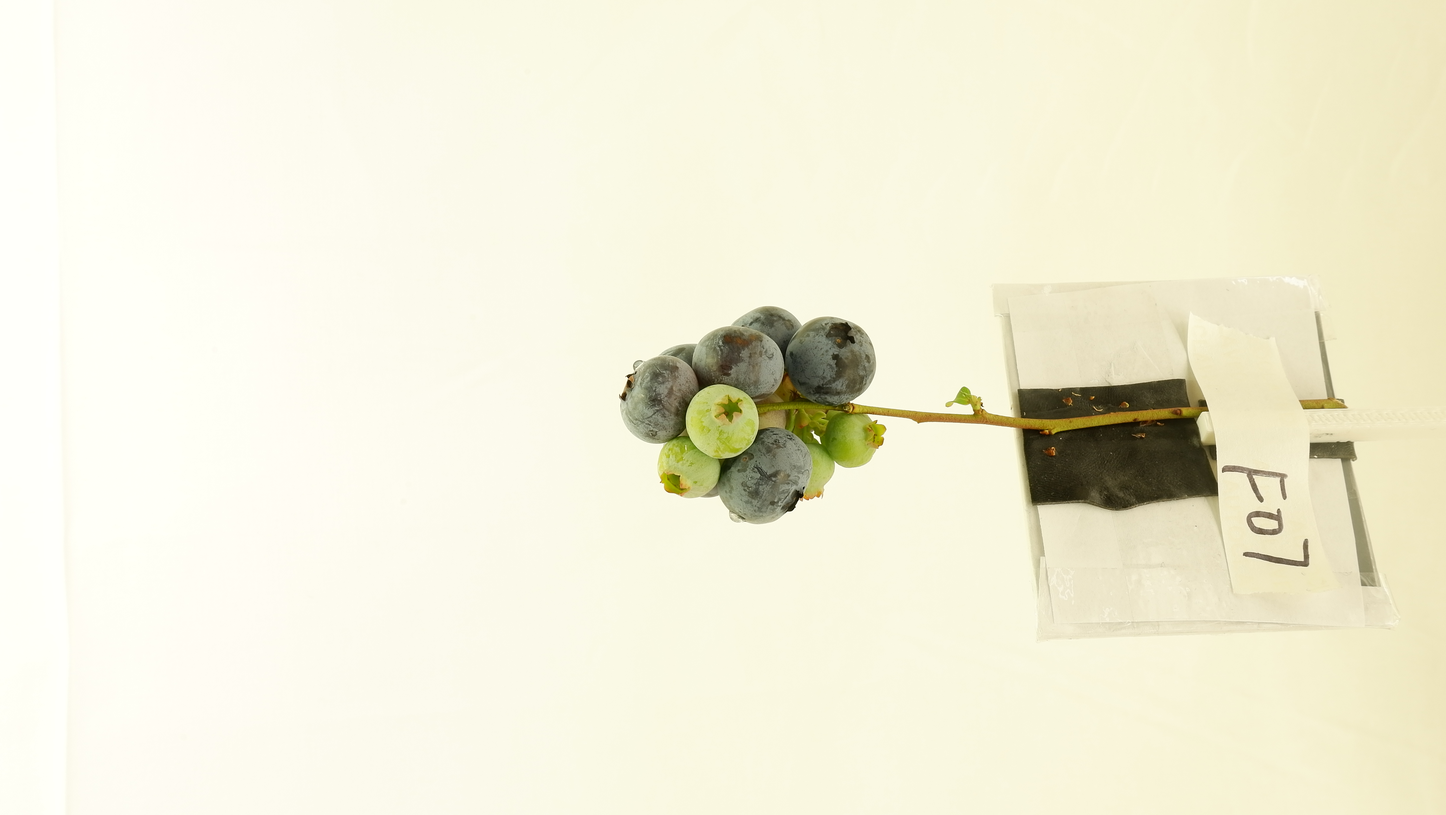Immature: (685, 384, 759, 459), (658, 437, 720, 499), (825, 411, 888, 469), (799, 444, 836, 502), (755, 393, 791, 430)
Mature: (718, 428, 813, 525), (784, 316, 875, 406), (620, 354, 700, 444), (692, 326, 784, 403), (728, 307, 802, 365), (658, 343, 698, 368), (701, 484, 719, 498)
